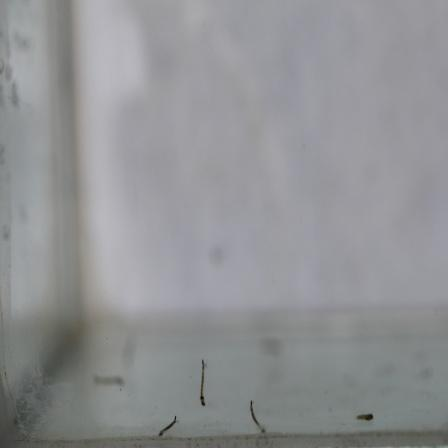Jentik-Nyamuk: (246, 395, 270, 438), (194, 358, 212, 410), (156, 412, 182, 439), (351, 411, 376, 425)
